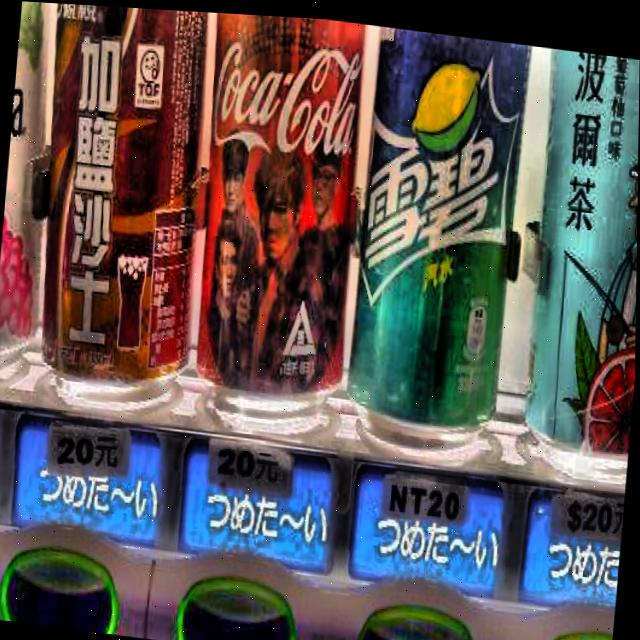metal: (339, 19, 536, 459), (180, 9, 377, 432), (18, 1, 217, 413), (513, 39, 640, 473)
